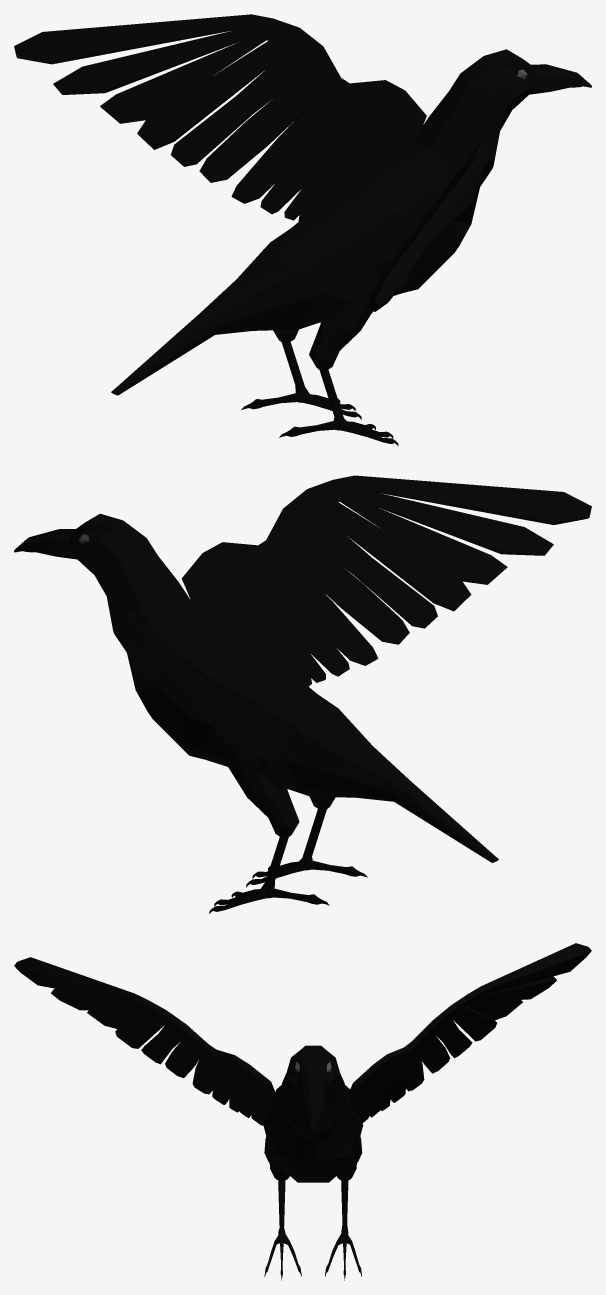
The model's file is crow_full_up_wings.obj.
3 renders of one model, top to bottom at view 1: azimuth 30°, elevation 25°; view 2: azimuth 150°, elevation 25°; view 3: azimuth 270°, elevation 25°, orthographic. The views are drawn at different scales.
Visible parts, largest first — view 1: Cylinder; view 2: Cylinder; view 3: Cylinder.
Boxes of the visible parts, x1,y1,x2,y2 form: Cylinder: (14,14,591,446); Cylinder: (14,475,591,913); Cylinder: (14,943,591,1280).
Bounding box in the file's own units: 1.52 × 1.04 × 1.9.
